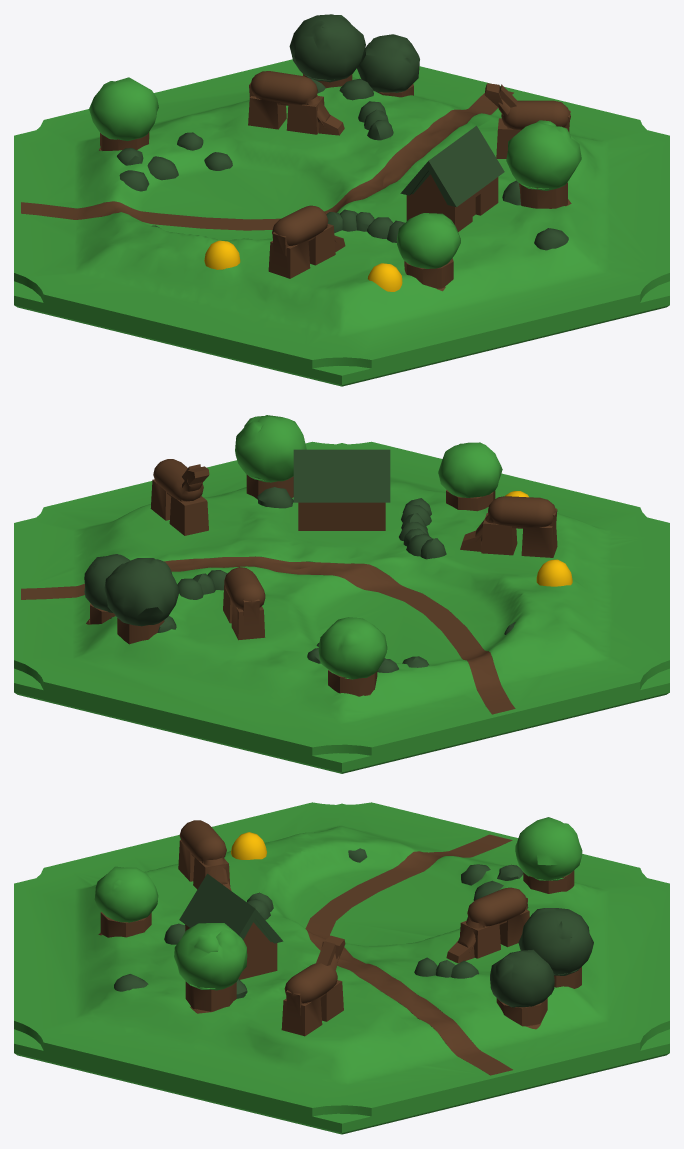
File: weide_1.glb
3 views of the same model, one above another, from view 1: azimuth 30°, elevation 25°; view 2: azimuth 150°, elevation 25°; view 3: azimuth 270°, elevation 25° (orthographic).
Visible parts, largest first — view 1: weide_1; view 2: weide_1; view 3: weide_1.
Boxes of the visible parts, x1,y1,x2,y2 form: weide_1: [14, 14, 669, 386]; weide_1: [14, 415, 669, 773]; weide_1: [14, 802, 669, 1134].
Bounding box in the file's own units: 65.24 × 11.17 × 56.5.
